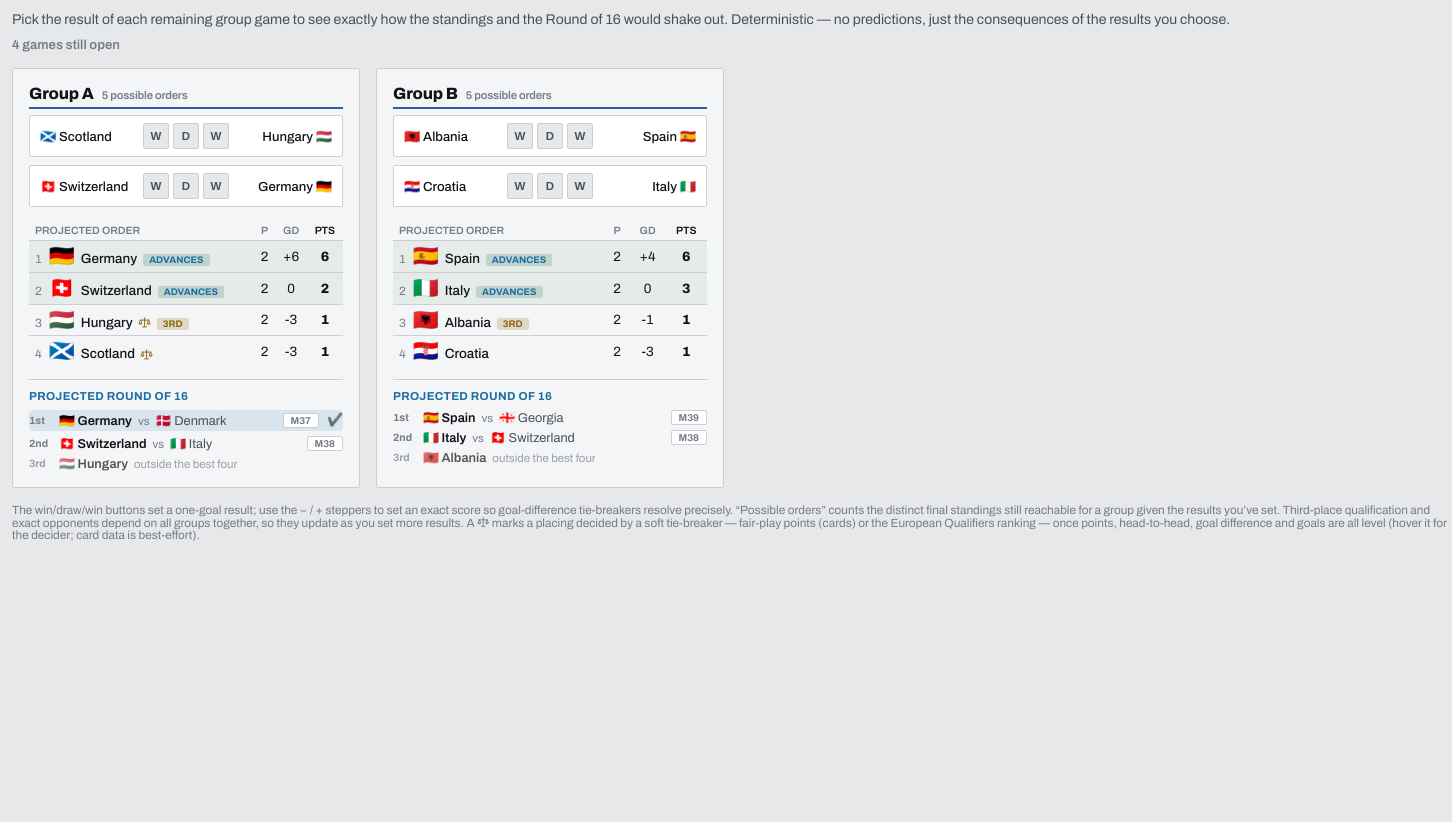
ScenariosView › renders a card per group still in play and reacts to a pick
The image size is (1452, 822).
Expected: the text "4 games still open" is shown, x1=12 y1=37 x2=120 y2=52
Expected: the heading "Group A5 possible orders" is shown, x1=29 y1=85 x2=343 y2=109
Note: Picking a result decrements the open-game counter and reveals Clear.
Click the 1st button titled "win" at (156, 136), box x1=143 y1=123 x2=169 y2=149
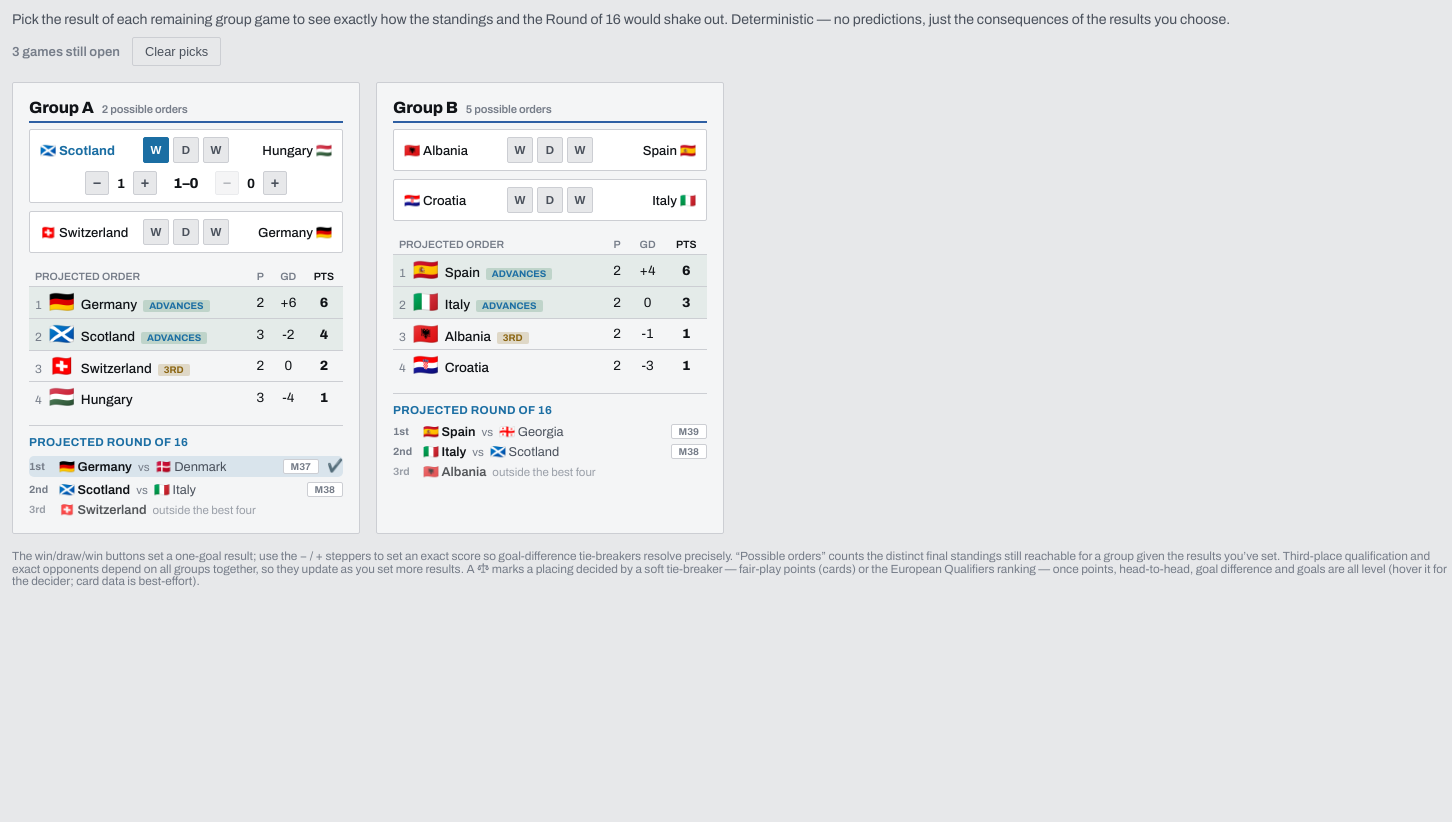
Expected: the text "3 games still open" is shown, x1=12 y1=44 x2=120 y2=59
Click the button "Clear picks" at (177, 52), box x1=132 y1=37 x2=221 y2=66
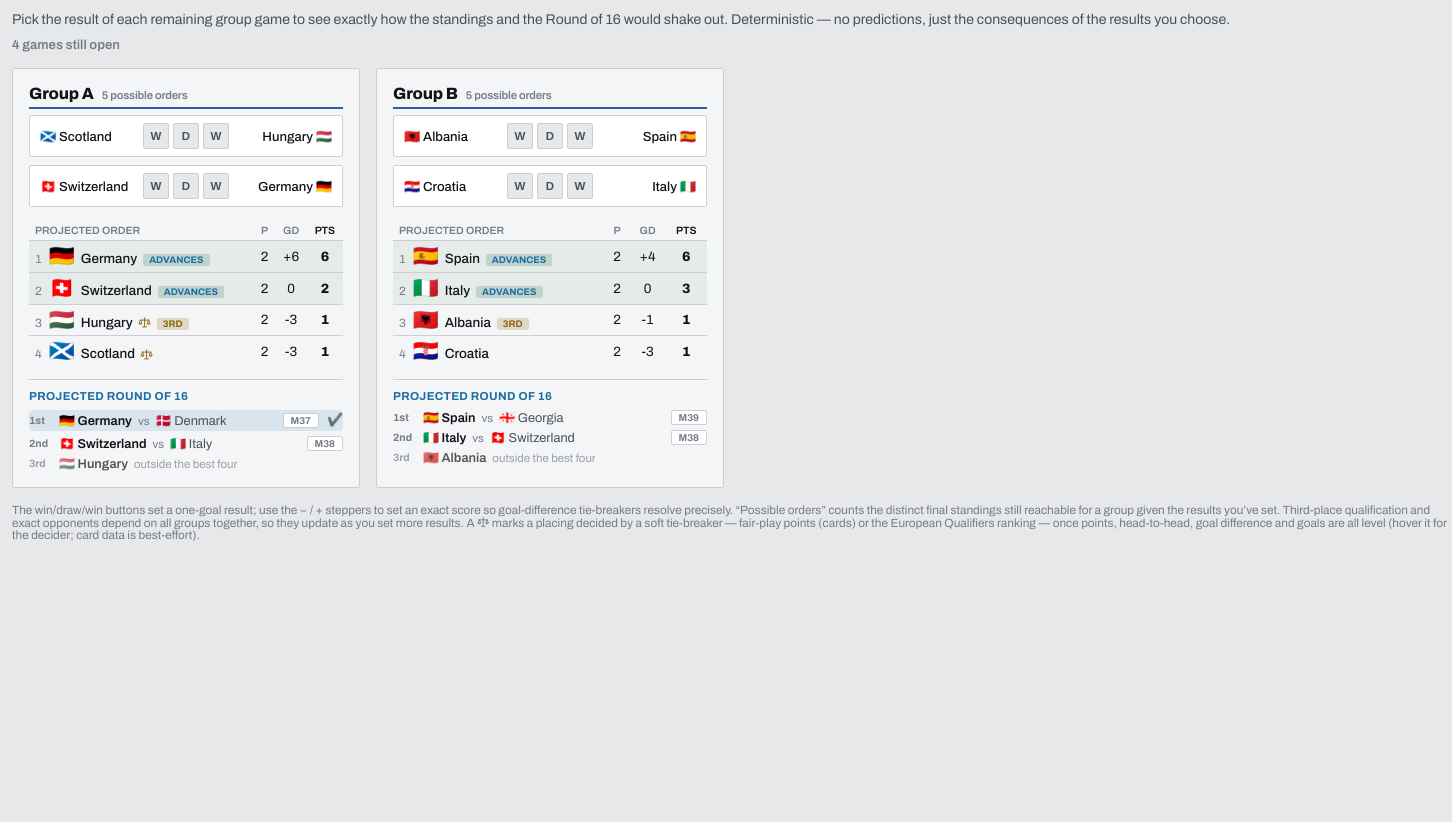
Expected: the text "4 games still open" is shown, x1=12 y1=37 x2=120 y2=52
